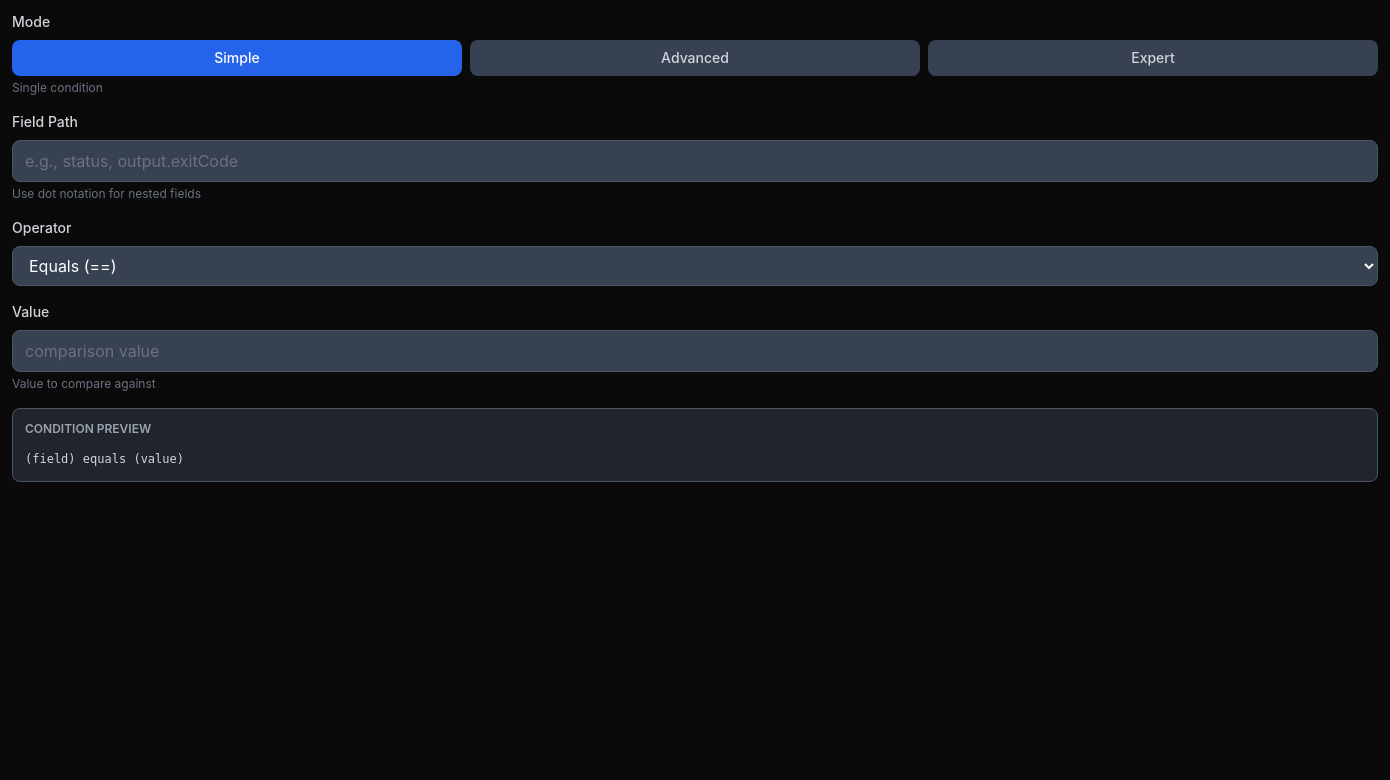
ConditionalNodeSettings › expert mode › switches to expert mode
The image size is (1390, 780).
Click the button "Expert" at [1153, 58], box [928, 40, 1378, 76]
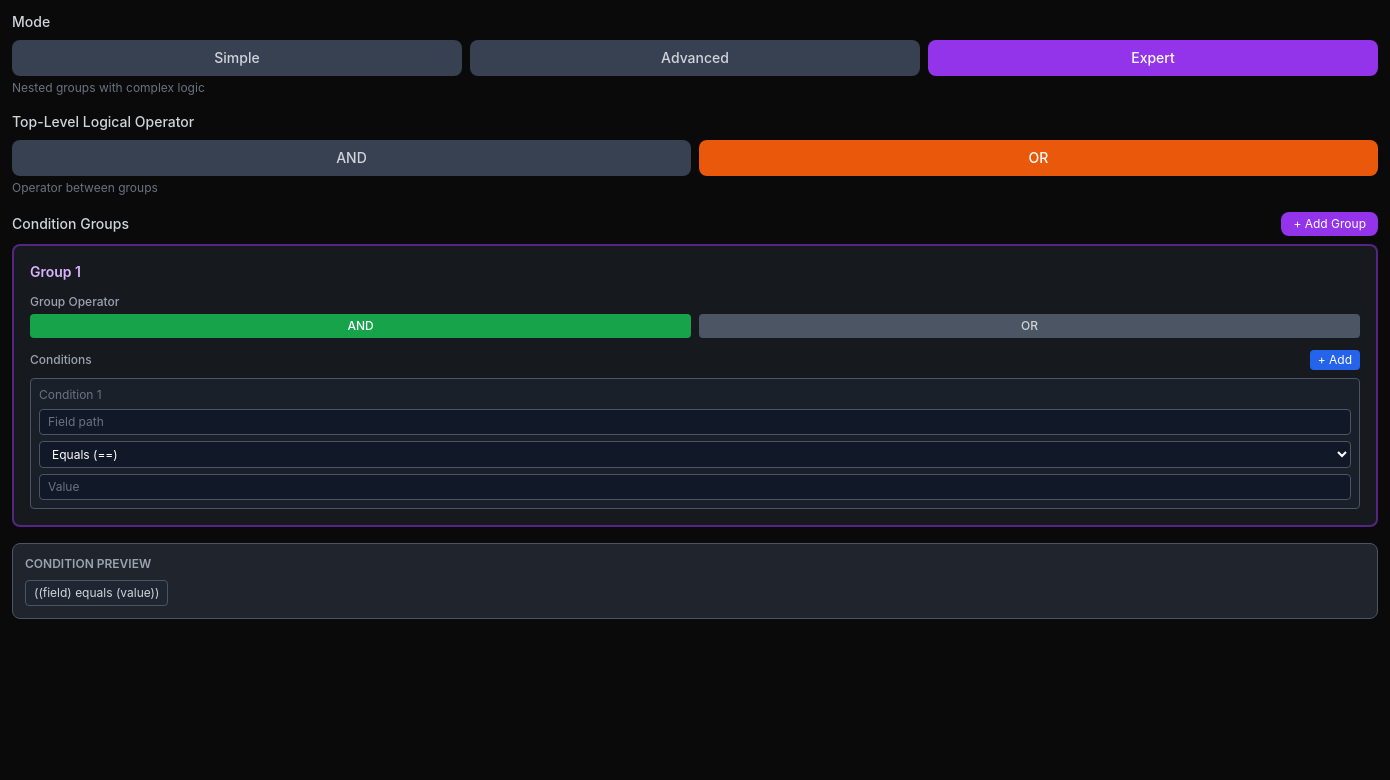
Result: the text "Nested groups with complex logic" is shown at [12, 80, 205, 95]
